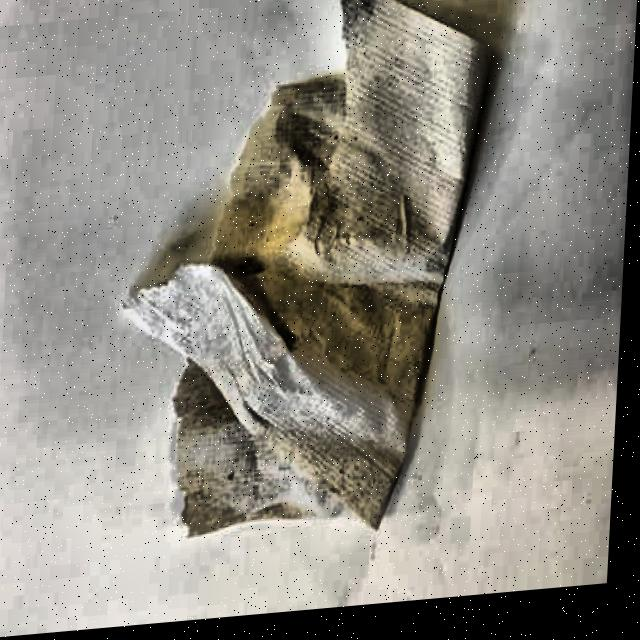trash: (108, 0, 499, 560)
